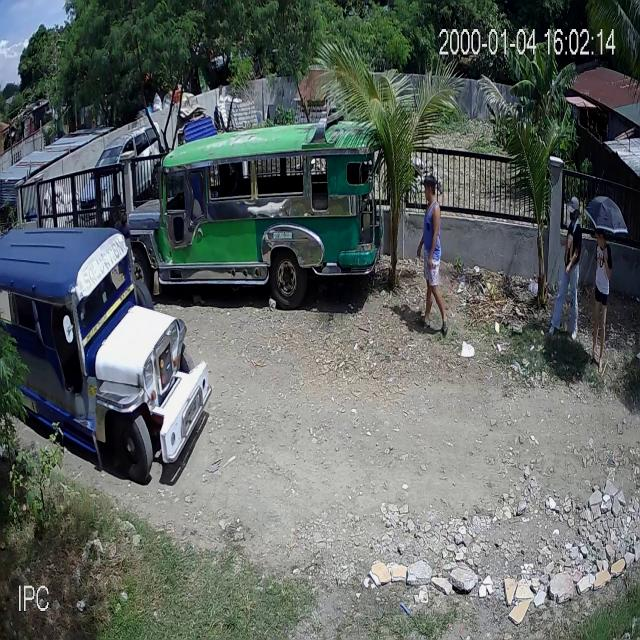standing: (587, 221, 613, 374), (108, 203, 132, 247)
walking: (414, 179, 453, 337), (550, 197, 582, 342)
